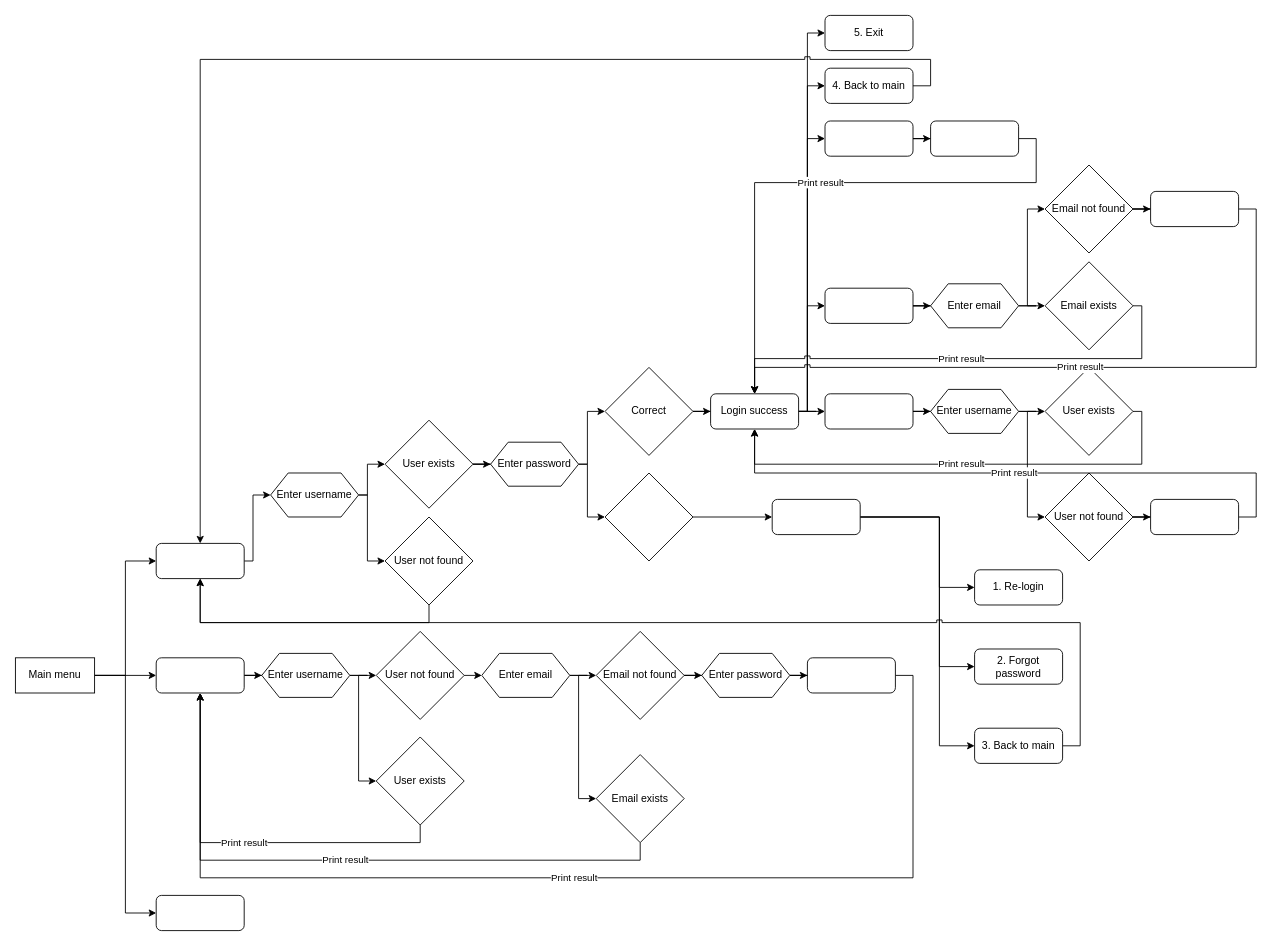
This 1279x946 diagram has some shape labels left out. Here are the shapes that lost their labels. From the top down, the centre of each, then its label:
At [868,138]: "3. Change password".
At [974,138]: "Update password".
At [1194,209]: "Update email".
At [868,305]: "2. Change email".
At [868,411]: "1. Change username".
At [648,516]: "Incorrect".
At [815,517]: "Login failure".
At [1194,517]: "Update username".
At [199,561]: "1. Login; Break;".
At [199,675]: "2. Register; Break;".
At [851,675]: "Create user".
At [199,913]: "3. Exit".
